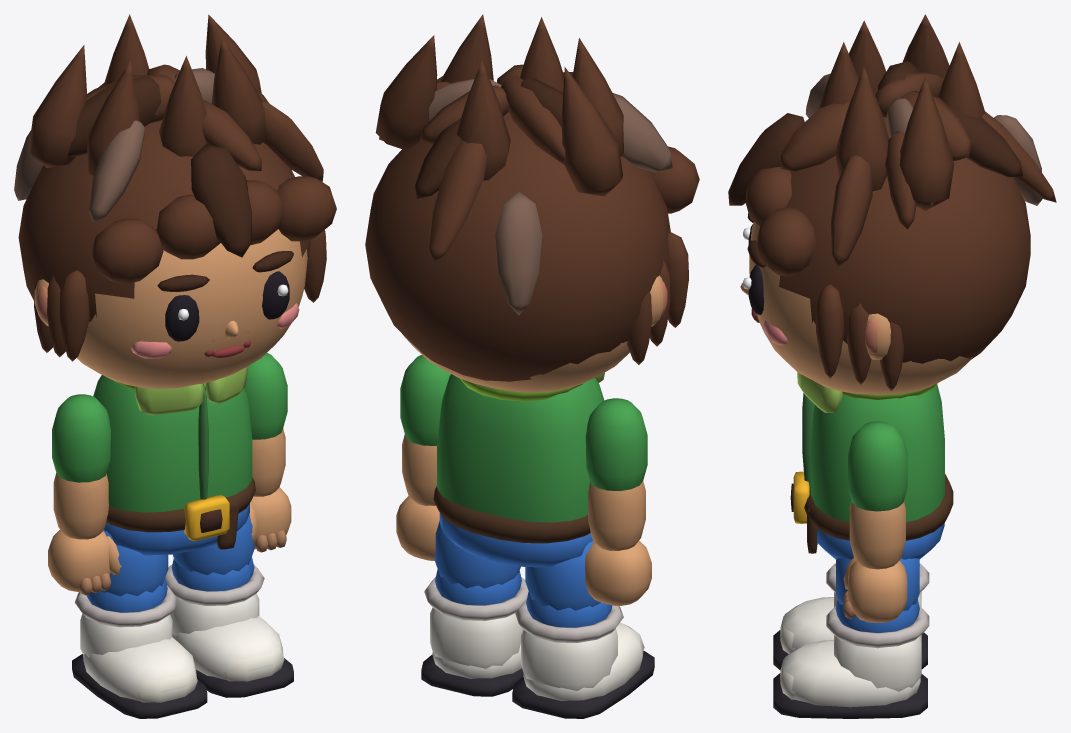
The model's file is kid.glb.
The picture shows the model from 3 angles, left to right: view 1: azimuth 30°, elevation 25°; view 2: azimuth 150°, elevation 25°; view 3: azimuth 270°, elevation 25°; orthographic projection. The views are drawn at different scales.
Parts seen in each view (by area): view 1: hair, torso, head, shin_r, shin_l, arm_r, arm_l, leg_l, hand_r, leg_r, hand_l, eye_r (+1 smaller); view 2: hair, torso, shin_r, shin_l, arm_r, arm_l, leg_r, leg_l, hand_r, head, hand_l; view 3: hair, torso, shin_l, head, arm_l, hand_l, shin_r, leg_l, eye_l.
Boxes of the visible parts, x1,y1,x2,y2 form: hair: (14, 14, 336, 361); torso: (93, 366, 255, 555); head: (34, 229, 307, 388); shin_r: (72, 585, 207, 718); shin_l: (165, 564, 293, 697); arm_r: (52, 394, 110, 539); arm_l: (245, 353, 287, 496); leg_l: (171, 514, 254, 591); hand_r: (48, 530, 121, 595); leg_r: (86, 530, 168, 612); hand_l: (249, 487, 291, 552); eye_r: (165, 295, 199, 341); hair: (365, 14, 699, 381); torso: (433, 372, 604, 567); shin_r: (512, 599, 654, 718); shin_l: (421, 576, 528, 696); arm_r: (585, 398, 647, 550); arm_l: (400, 355, 450, 505); leg_r: (525, 541, 612, 627); leg_l: (434, 521, 521, 605); hand_r: (585, 540, 651, 605); head: (403, 275, 667, 392); hand_l: (396, 496, 439, 560); hair: (728, 14, 1056, 391); torso: (790, 372, 953, 559); shin_l: (773, 606, 929, 718); head: (740, 213, 973, 394); arm_l: (848, 421, 907, 569); hand_l: (843, 558, 907, 622); shin_r: (773, 563, 929, 670); leg_l: (835, 558, 919, 632); eye_l: (743, 265, 763, 314).
Size of the model in its own units: 0.4618 by 1.04 by 0.4828.
Materials: 1 (1 with a texture image).
